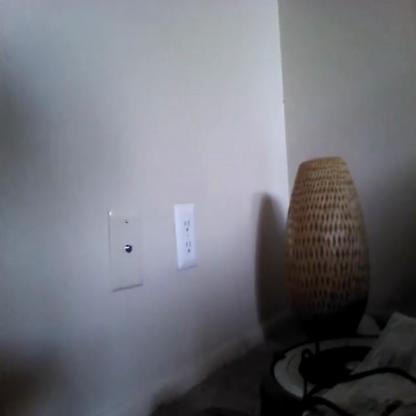OUTLET: (172, 204, 196, 266)
